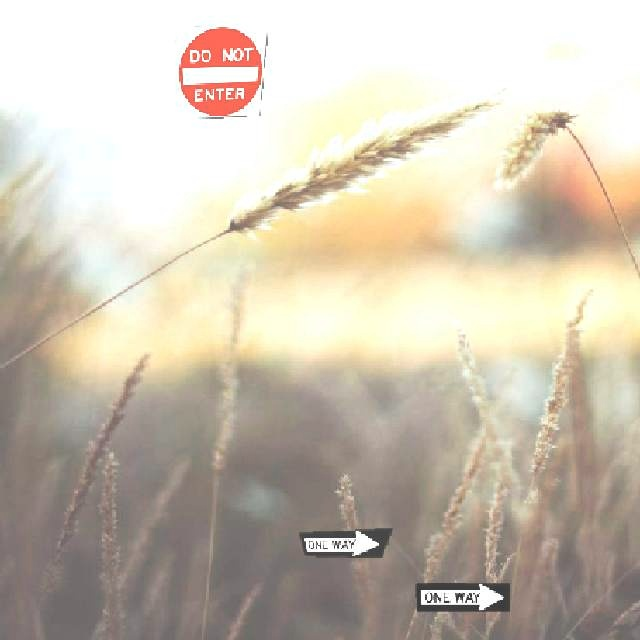DO_NOT_ENTER: (173, 23, 267, 118)
ONE_WAY_ right: (297, 526, 392, 557), (414, 581, 509, 611)
